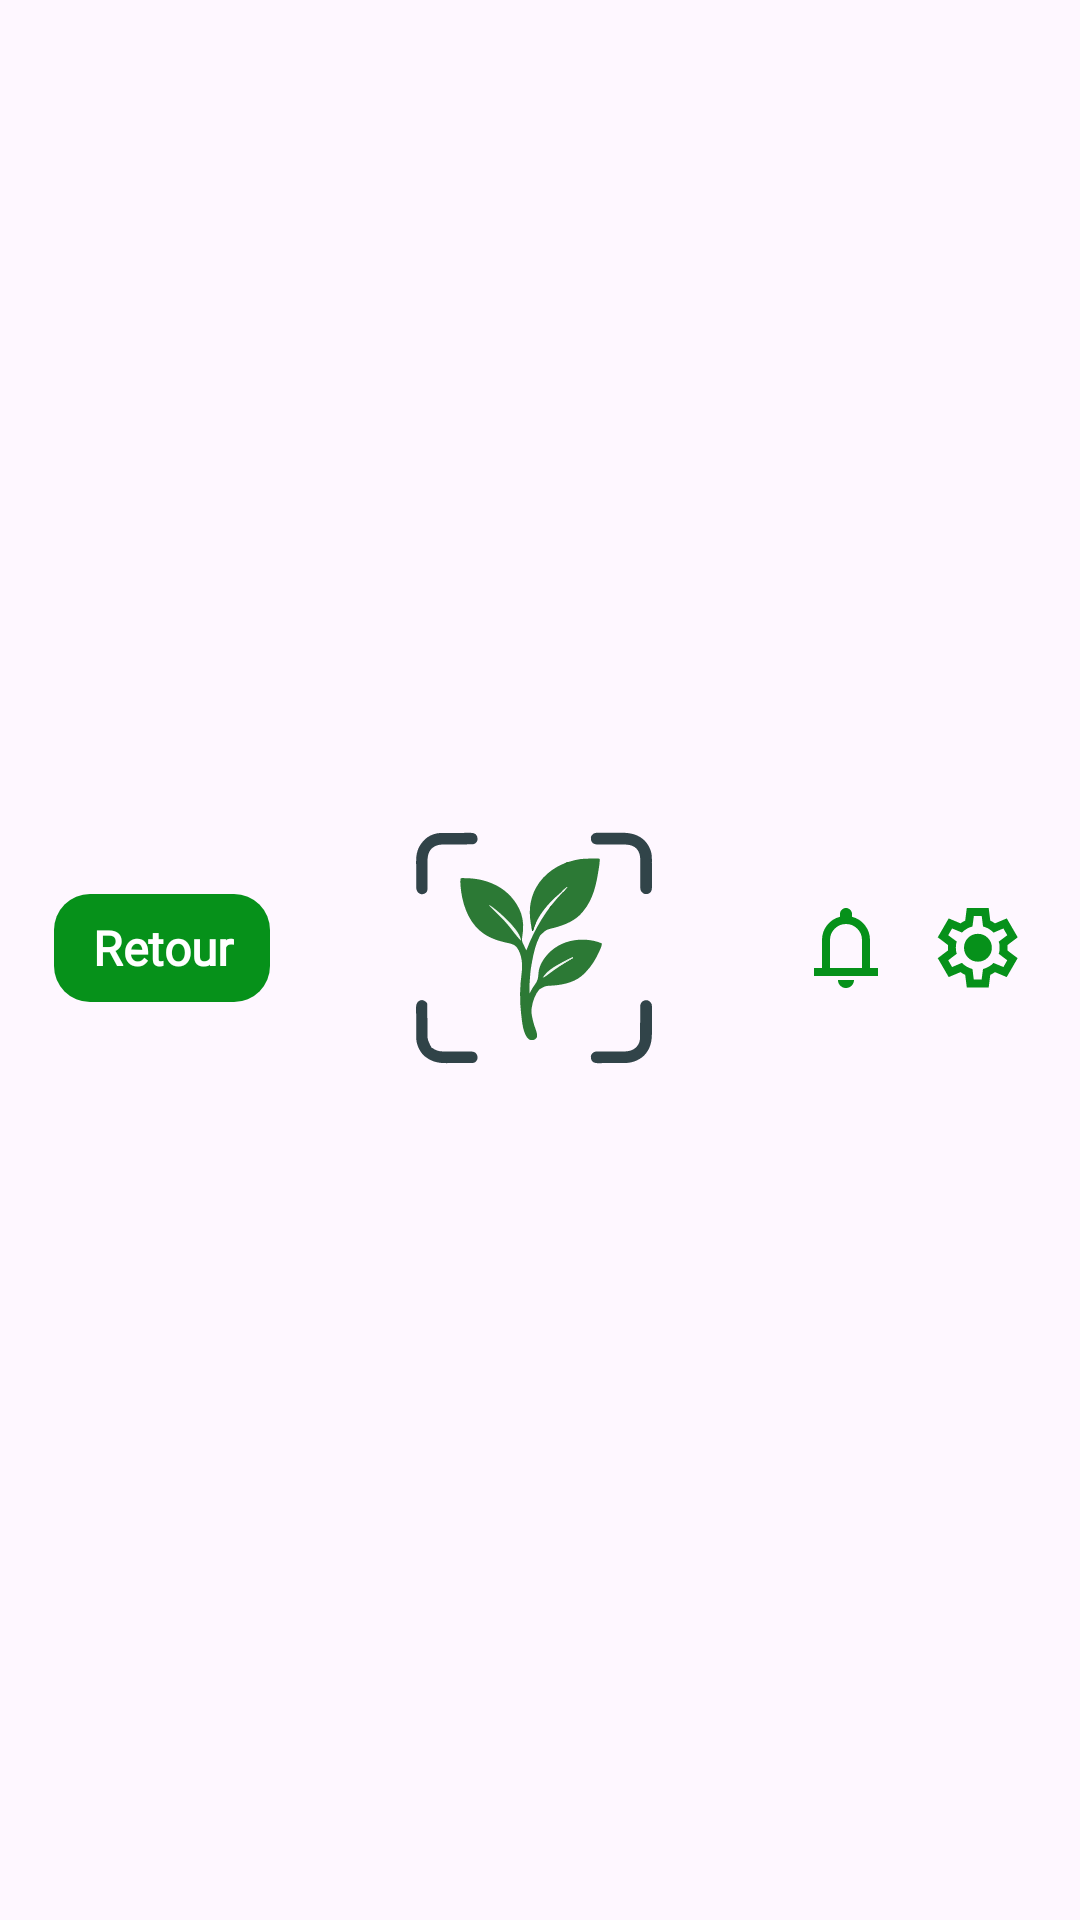

Where to tap for icons on this 1080px×1920px app screen, as [x,y]:
notifications: [846,948]
settings: [977,948]
